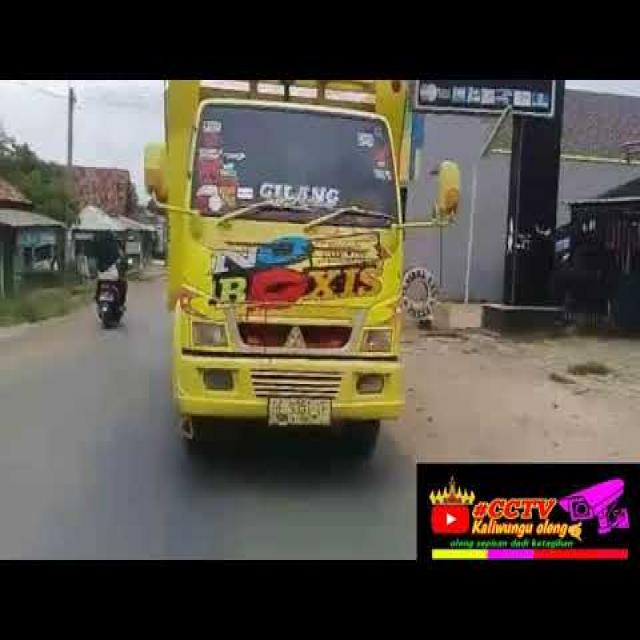Truck: (145, 64, 467, 473)
